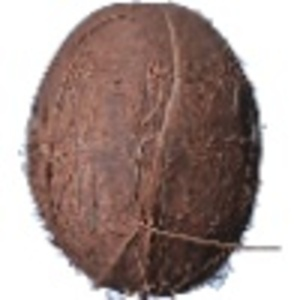coco: (19, 1, 264, 300)
